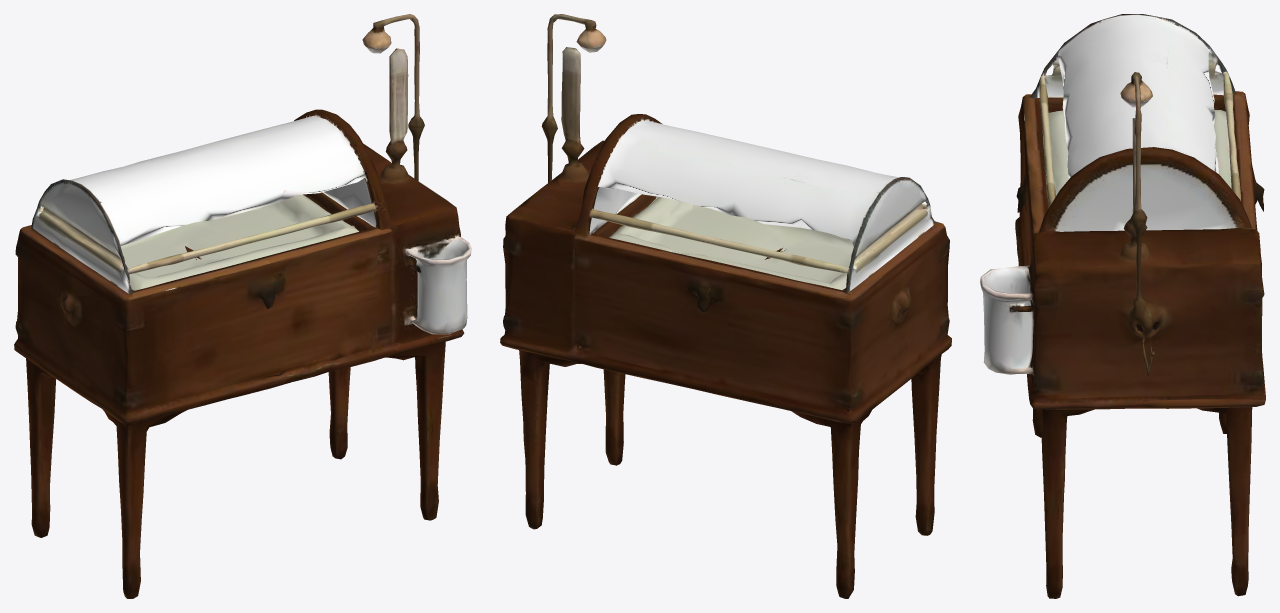
The model's file is incubadora_1920.glb.
The picture shows the model from 3 angles, left to right: view 1: azimuth 30°, elevation 25°; view 2: azimuth 150°, elevation 25°; view 3: azimuth 270°, elevation 25°; orthographic projection. The views are drawn at different scales.
Visible parts, largest first — view 1: geometry_0; view 2: geometry_0; view 3: geometry_0.
Boxes of the visible parts, x1=… form: geometry_0: x1=14, y1=14, x2=471, y2=598; geometry_0: x1=500, y1=14, x2=951, y2=598; geometry_0: x1=980, y1=14, x2=1265, y2=598.
Size of the model in its own units: 0.9 by 1.1 by 0.55.
1 material, 1 textured.
